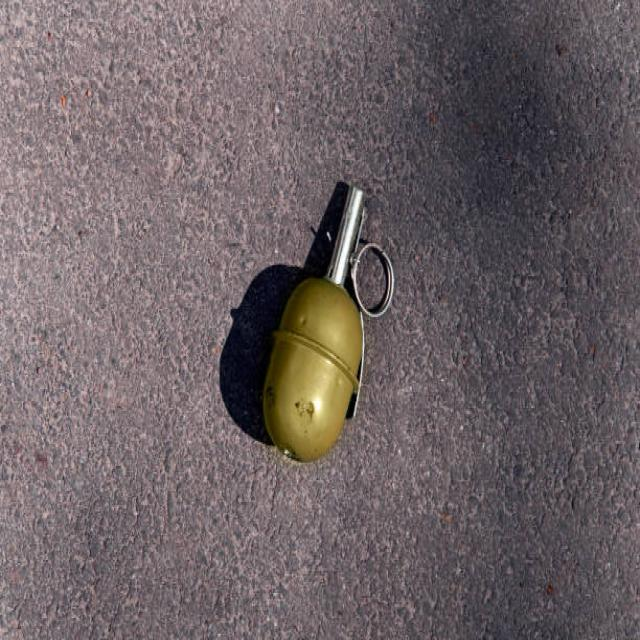grenade: (258, 178, 397, 478)
